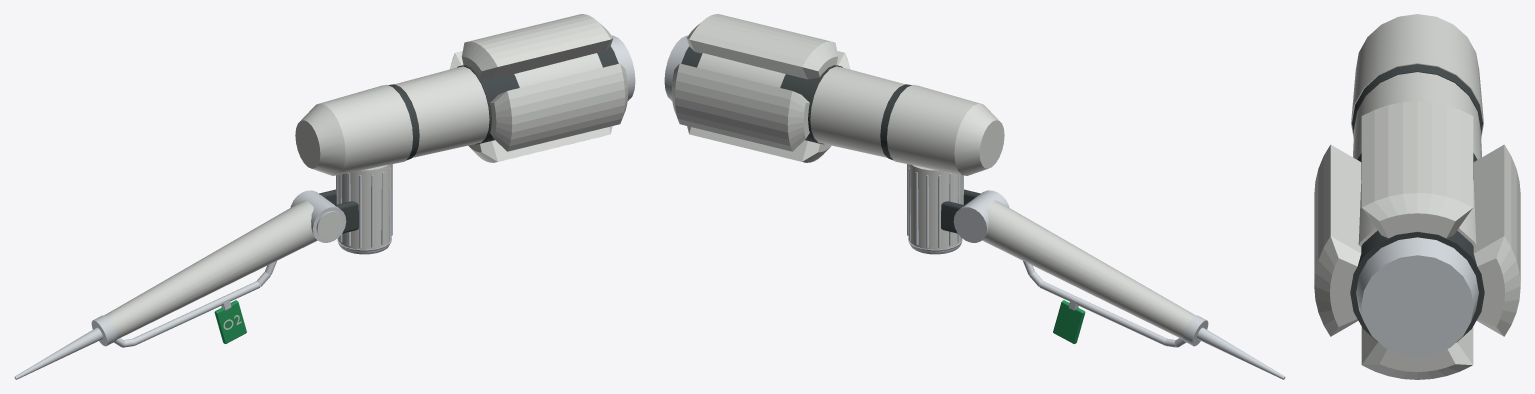
The model's file is oxygen-arm.glb.
The picture shows the model from 3 angles, left to right: view 1: azimuth 30°, elevation 25°; view 2: azimuth 150°, elevation 25°; view 3: azimuth 270°, elevation 25°; orthographic projection. The views are drawn at different scales.
Parts seen in each view (by area): view 1: Raised sleeve shoe.002, Tapered gun barrel, Horizontal barrel, Raised sleeve shoe.001, Front head, Spindle, Chamfered end, Raised sleeve shoe.003, Split sleeve liner, Lower return tube.002, Side pin, Fine lance (+4 smaller); view 2: Raised sleeve shoe, Tapered gun barrel, Horizontal barrel, Raised sleeve shoe.001, Front head, Spindle, Chamfered end, Side pin, Raised sleeve shoe.003, Split sleeve liner, Lower return tube.002, Oxygen tag (+3 smaller); view 3: Raised sleeve shoe.001, Rear plug, Raised sleeve shoe, Raised sleeve shoe.002, Front head, Horizontal barrel, Raised sleeve shoe.003, Split sleeve liner, Head seam.
Boxes of the visible parts, x1=… form: Raised sleeve shoe.002: x1=490, y1=63, x2=628, y2=151; Tapered gun barrel: x1=104, y1=200, x2=317, y2=339; Horizontal barrel: x1=395, y1=53, x2=602, y2=157; Raised sleeve shoe.001: x1=461, y1=14, x2=613, y2=79; Front head: x1=319, y1=84, x2=412, y2=174; Spindle: x1=337, y1=164, x2=391, y2=252; Chamfered end: x1=295, y1=103, x2=345, y2=175; Raised sleeve shoe.003: x1=468, y1=126, x2=612, y2=162; Split sleeve liner: x1=457, y1=46, x2=618, y2=144; Lower return tube.002: x1=132, y1=281, x2=260, y2=345; Side pin: x1=290, y1=190, x2=346, y2=242; Fine lance: x1=14, y1=327, x2=103, y2=379; Raised sleeve shoe: x1=671, y1=63, x2=809, y2=151; Tapered gun barrel: x1=982, y1=200, x2=1195, y2=339; Horizontal barrel: x1=697, y1=53, x2=904, y2=157; Raised sleeve shoe.001: x1=686, y1=14, x2=838, y2=79; Front head: x1=887, y1=84, x2=980, y2=174; Spindle: x1=908, y1=164, x2=962, y2=252; Chamfered end: x1=954, y1=103, x2=1004, y2=175; Side pin: x1=953, y1=190, x2=1009, y2=242; Raised sleeve shoe.003: x1=687, y1=126, x2=831, y2=162; Split sleeve liner: x1=681, y1=46, x2=842, y2=144; Lower return tube.002: x1=1039, y1=281, x2=1167, y2=345; Oxygen tag: x1=1053, y1=300, x2=1085, y2=343; Raised sleeve shoe.001: x1=1361, y1=101, x2=1473, y2=238; Rear plug: x1=1356, y1=237, x2=1478, y2=357; Raised sleeve shoe: x1=1473, y1=144, x2=1520, y2=336; Raised sleeve shoe.002: x1=1314, y1=144, x2=1361, y2=336; Front head: x1=1351, y1=14, x2=1483, y2=137; Horizontal barrel: x1=1353, y1=72, x2=1481, y2=246; Raised sleeve shoe.003: x1=1361, y1=327, x2=1473, y2=379; Split sleeve liner: x1=1350, y1=153, x2=1484, y2=342; Head seam: x1=1352, y1=64, x2=1482, y2=134.
Bounding box in the file's own units: 1.48 × 0.5512 × 0.264.
